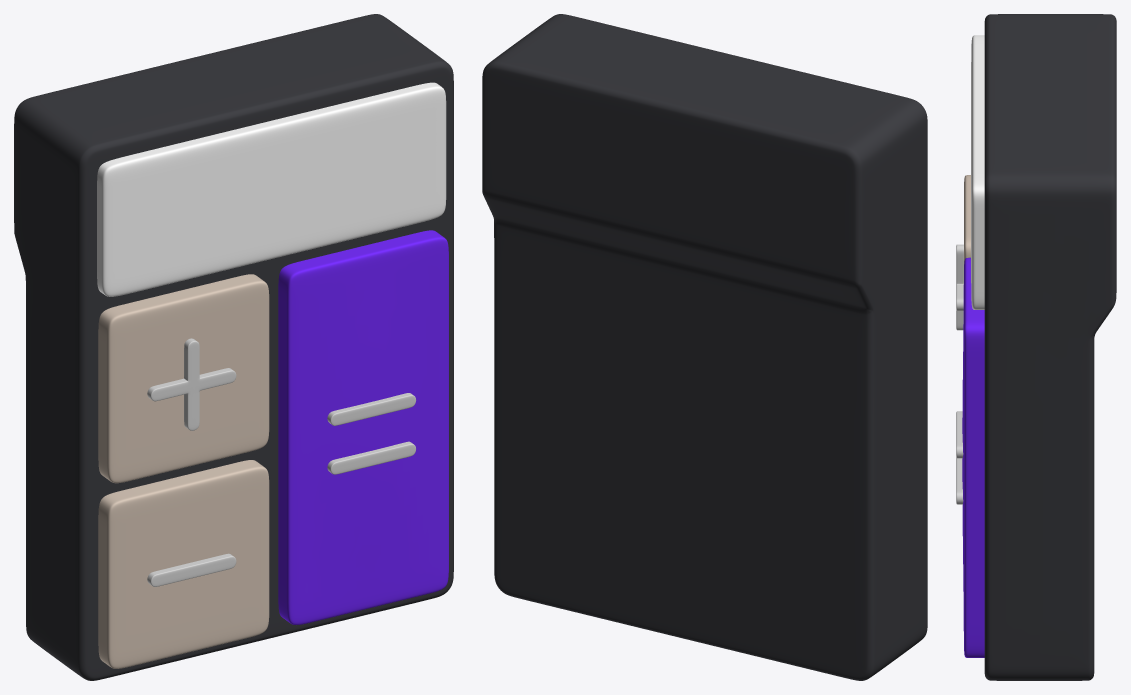
The model's file is calculator.glb.
3 renders of one model, left to right at view 1: azimuth 30°, elevation 25°; view 2: azimuth 150°, elevation 25°; view 3: azimuth 270°, elevation 25°, orthographic. The views are drawn at different scales.
Parts seen in each view (by area): view 1: Calculator; view 2: Calculator; view 3: Calculator.
Part boxes in pixels (left/top/right/bottom): Calculator: left=14, top=14, right=453, bottom=680; Calculator: left=482, top=14, right=927, bottom=680; Calculator: left=956, top=14, right=1116, bottom=680.
Size of the model in its own units: 1.42 by 1.93 by 0.5549.
